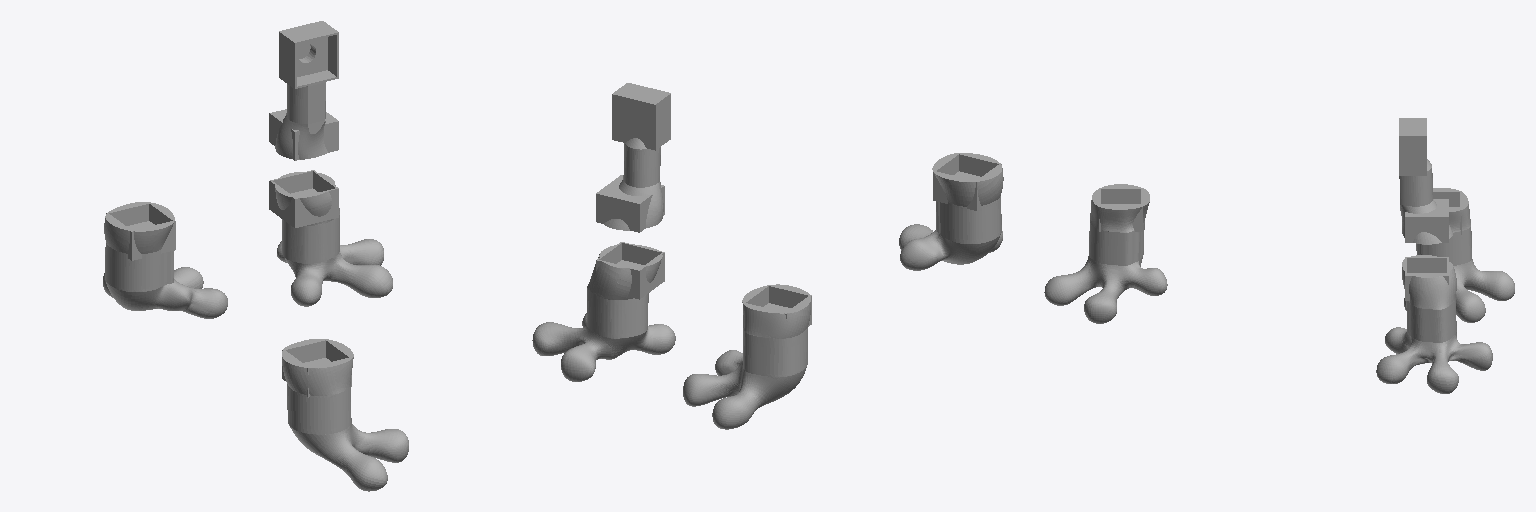
robot.urdf — FrogBot1_top-FrogBot1-z-8_bottom-FrogBot1-z-8:
<?xml version="1.0" ?>
<robot name="FrogBot1_top-FrogBot1-z-8_bottom-FrogBot1-z-8">

<material name="pla_5_percent_infill">
  <color rgba="0.700 0.700 0.700 1.000"/>
</material>

<link name="base_link">
  <inertial>
    <origin xyz="0 0 0" rpy="0 0 0"/>
    <mass value="1.4103143072721238"/>
    <inertia ixx="0.004671865419262023" iyy="0.01102984328633242" izz="0.011972094032648898" ixy="0.00015185420958179873" iyz="8.583160306759328e-05" ixz="-0.0012132770853355082"/>
  </inertial>
  <visual>
    <origin xyz="0 0 0" rpy="0 0 0"/>
    <geometry>
      <mesh filename="simple_meshes/base_link.stl" scale="0.001 0.001 0.001"/>
    </geometry>
    <material name="pla_5_percent_infill"/>
  </visual>
  <collision>
    <origin xyz="0 0 0" rpy="0 0 0"/>
    <geometry>
      <mesh filename="simple_meshes/base_link.stl" scale="0.001 0.001 0.001"/>
    </geometry>
  </collision>
</link>

<link name="body_1_0_1">
  <inertial>
    <origin xyz="-0.045735 -0.109621 -0.00462" rpy="0 0 0"/>
    <mass value="0.04669305087137374"/>
    <inertia ixx="6.158734788893326e-05" iyy="6.321786893320898e-05" izz="1.5869908486979825e-05" ixy="-4.6787052165327787e-07" iyz="3.9237378778727585e-06" ixz="8.172753653349339e-07"/>
  </inertial>
  <visual>
    <origin xyz="-0.045735 -0.109621 -0.00462" rpy="0 0 0"/>
    <geometry>
      <mesh filename="simple_meshes/body_1_0_1.stl" scale="0.001 0.001 0.001"/>
    </geometry>
    <material name="pla_5_percent_infill"/>
  </visual>
  <collision>
    <origin xyz="-0.045735 -0.109621 -0.00462" rpy="0 0 0"/>
    <geometry>
      <mesh filename="simple_meshes/body_1_0_1.stl" scale="0.001 0.001 0.001"/>
    </geometry>
  </collision>
</link>

<link name="body_1_1_1">
  <inertial>
    <origin xyz="0.086489 -0.109621 -0.018802" rpy="0 0 0"/>
    <mass value="0.08612758541207893"/>
    <inertia ixx="0.0001182693329526024" iyy="0.00012612852452608108" izz="4.703228480629077e-05" ixy="6.372901955558133e-06" iyz="1.6550422826052e-05" ixz="-2.476134601228587e-05"/>
  </inertial>
  <visual>
    <origin xyz="0.086489 -0.109621 -0.018802" rpy="0 0 0"/>
    <geometry>
      <mesh filename="simple_meshes/body_1_1_1.stl" scale="0.001 0.001 0.001"/>
    </geometry>
    <material name="pla_5_percent_infill"/>
  </visual>
  <collision>
    <origin xyz="0.086489 -0.109621 -0.018802" rpy="0 0 0"/>
    <geometry>
      <mesh filename="simple_meshes/body_1_1_1.stl" scale="0.001 0.001 0.001"/>
    </geometry>
  </collision>
</link>

<link name="body_1_2_1">
  <inertial>
    <origin xyz="-0.040267 0.109621 -0.027764" rpy="0 0 0"/>
    <mass value="0.058363739081288536"/>
    <inertia ixx="0.00011264049387572656" iyy="0.00011074279092734816" izz="2.465862550481016e-05" ixy="6.718147543731206e-07" iyz="-1.706892343665789e-05" ixz="-1.8581774497271482e-07"/>
  </inertial>
  <visual>
    <origin xyz="-0.040267 0.109621 -0.027764" rpy="0 0 0"/>
    <geometry>
      <mesh filename="simple_meshes/body_1_2_1.stl" scale="0.001 0.001 0.001"/>
    </geometry>
    <material name="pla_5_percent_infill"/>
  </visual>
  <collision>
    <origin xyz="-0.040267 0.109621 -0.027764" rpy="0 0 0"/>
    <geometry>
      <mesh filename="simple_meshes/body_1_2_1.stl" scale="0.001 0.001 0.001"/>
    </geometry>
  </collision>
</link>

<link name="body_1_3_1">
  <inertial>
    <origin xyz="0.090407 0.109621 -0.022193" rpy="0 0 0"/>
    <mass value="0.08485379805943431"/>
    <inertia ixx="0.00012753125003017122" iyy="0.00013729565771927786" izz="4.9576316215031984e-05" ixy="-7.786562935743237e-06" iyz="-2.0411289141275286e-05" ixz="-2.980986426036835e-05"/>
  </inertial>
  <visual>
    <origin xyz="0.090407 0.109621 -0.022193" rpy="0 0 0"/>
    <geometry>
      <mesh filename="simple_meshes/body_1_3_1.stl" scale="0.001 0.001 0.001"/>
    </geometry>
    <material name="pla_5_percent_infill"/>
  </visual>
  <collision>
    <origin xyz="0.090407 0.109621 -0.022193" rpy="0 0 0"/>
    <geometry>
      <mesh filename="simple_meshes/body_1_3_1.stl" scale="0.001 0.001 0.001"/>
    </geometry>
  </collision>
</link>

<link name="body_2_0_1">
  <inertial>
    <origin xyz="-0.049562 -0.159797 0.115064" rpy="0 0 0"/>
    <mass value="0.11929466611780798"/>
    <inertia ixx="0.0001706979049558733" iyy="0.00018354198886531056" izz="0.00014161540582525783" ixy="-4.7271145986438855e-06" iyz="-1.645632310017485e-06" ixz="3.944063855026449e-05"/>
  </inertial>
  <visual>
    <origin xyz="-0.049562 -0.159797 0.115064" rpy="0 0 0"/>
    <geometry>
      <mesh filename="simple_meshes/body_2_0_1.stl" scale="0.001 0.001 0.001"/>
    </geometry>
    <material name="pla_5_percent_infill"/>
  </visual>
  <collision>
    <origin xyz="-0.049562 -0.159797 0.115064" rpy="0 0 0"/>
    <geometry>
      <mesh filename="simple_meshes/body_2_0_1.stl" scale="0.001 0.001 0.001"/>
    </geometry>
  </collision>
</link>

<link name="body_2_1_1">
  <inertial>
    <origin xyz="0.121182 -0.173952 0.115064" rpy="0 0 0"/>
    <mass value="0.13188086054341672"/>
    <inertia ixx="0.00018250774546210366" iyy="0.00019525400391993443" izz="0.00015667204359975668" ixy="-5.300198501608996e-07" iyz="2.2857897823881472e-05" ixz="5.0156362080533076e-05"/>
  </inertial>
  <visual>
    <origin xyz="0.121182 -0.173952 0.115064" rpy="0 0 0"/>
    <geometry>
      <mesh filename="simple_meshes/body_2_1_1.stl" scale="0.001 0.001 0.001"/>
    </geometry>
    <material name="pla_5_percent_infill"/>
  </visual>
  <collision>
    <origin xyz="0.121182 -0.173952 0.115064" rpy="0 0 0"/>
    <geometry>
      <mesh filename="simple_meshes/body_2_1_1.stl" scale="0.001 0.001 0.001"/>
    </geometry>
  </collision>
</link>

<link name="body_2_2_1">
  <inertial>
    <origin xyz="-0.04311 0.170506 0.115064" rpy="0 0 0"/>
    <mass value="0.12465333083205496"/>
    <inertia ixx="0.00018182680676448633" iyy="0.00017547280678968918" izz="0.0001464392054658292" ixy="1.28548710642243e-06" iyz="-9.01709822571841e-06" ixz="2.8723194358482463e-05"/>
  </inertial>
  <visual>
    <origin xyz="-0.04311 0.170506 0.115064" rpy="0 0 0"/>
    <geometry>
      <mesh filename="simple_meshes/body_2_2_1.stl" scale="0.001 0.001 0.001"/>
    </geometry>
    <material name="pla_5_percent_infill"/>
  </visual>
  <collision>
    <origin xyz="-0.04311 0.170506 0.115064" rpy="0 0 0"/>
    <geometry>
      <mesh filename="simple_meshes/body_2_2_1.stl" scale="0.001 0.001 0.001"/>
    </geometry>
  </collision>
</link>

<link name="body_2_3_1">
  <inertial>
    <origin xyz="0.129712 0.175384 0.115064" rpy="0 0 0"/>
    <mass value="0.1277856373822727"/>
    <inertia ixx="0.00019092959316797768" iyy="0.00018900325065688076" izz="0.00014329279451186835" ixy="6.896354819343337e-06" iyz="-2.898336546070055e-05" ixz="4.7471247828146344e-05"/>
  </inertial>
  <visual>
    <origin xyz="0.129712 0.175384 0.115064" rpy="0 0 0"/>
    <geometry>
      <mesh filename="simple_meshes/body_2_3_1.stl" scale="0.001 0.001 0.001"/>
    </geometry>
    <material name="pla_5_percent_infill"/>
  </visual>
  <collision>
    <origin xyz="0.129712 0.175384 0.115064" rpy="0 0 0"/>
    <geometry>
      <mesh filename="simple_meshes/body_2_3_1.stl" scale="0.001 0.001 0.001"/>
    </geometry>
  </collision>
</link>

<joint name="joint_1_0" type="revolute">
  <origin xyz="0.045735 0.109621 0.00462" rpy="0 0 0"/>
  <parent link="base_link"/>
  <child link="body_1_0_1"/>
  <axis xyz="0.0 1.0 0.0"/>
  <limit upper="1.2" lower="-1.2" effort="3.8" velocity="5.4"/>
</joint>
<transmission name="joint_1_0_tran">
  <type>transmission_interface/SimpleTransmission</type>
  <joint name="joint_1_0">
    <hardwareInterface>PositionJointInterface</hardwareInterface>
  </joint>
  <actuator name="joint_1_0_actr">
    <hardwareInterface>PositionJointInterface</hardwareInterface>
    <mechanicalReduction>1</mechanicalReduction>
  </actuator>
</transmission>

<joint name="joint_1_1" type="revolute">
  <origin xyz="-0.086489 0.109621 0.018802" rpy="0 0 0"/>
  <parent link="base_link"/>
  <child link="body_1_1_1"/>
  <axis xyz="0.0 1.0 0.0"/>
  <limit upper="1.2" lower="-1.2" effort="3.8" velocity="5.4"/>
</joint>
<transmission name="joint_1_1_tran">
  <type>transmission_interface/SimpleTransmission</type>
  <joint name="joint_1_1">
    <hardwareInterface>PositionJointInterface</hardwareInterface>
  </joint>
  <actuator name="joint_1_1_actr">
    <hardwareInterface>PositionJointInterface</hardwareInterface>
    <mechanicalReduction>1</mechanicalReduction>
  </actuator>
</transmission>

<joint name="joint_1_2" type="revolute">
  <origin xyz="0.040267 -0.109621 0.027764" rpy="0 0 0"/>
  <parent link="base_link"/>
  <child link="body_1_2_1"/>
  <axis xyz="0.0 1.0 0.0"/>
  <limit upper="1.2" lower="-1.2" effort="3.8" velocity="5.4"/>
</joint>
<transmission name="joint_1_2_tran">
  <type>transmission_interface/SimpleTransmission</type>
  <joint name="joint_1_2">
    <hardwareInterface>PositionJointInterface</hardwareInterface>
  </joint>
  <actuator name="joint_1_2_actr">
    <hardwareInterface>PositionJointInterface</hardwareInterface>
    <mechanicalReduction>1</mechanicalReduction>
  </actuator>
</transmission>

<joint name="joint_1_3" type="revolute">
  <origin xyz="-0.090407 -0.109621 0.022193" rpy="0 0 0"/>
  <parent link="base_link"/>
  <child link="body_1_3_1"/>
  <axis xyz="0.0 1.0 0.0"/>
  <limit upper="1.2" lower="-1.2" effort="3.8" velocity="5.4"/>
</joint>
<transmission name="joint_1_3_tran">
  <type>transmission_interface/SimpleTransmission</type>
  <joint name="joint_1_3">
    <hardwareInterface>PositionJointInterface</hardwareInterface>
  </joint>
  <actuator name="joint_1_3_actr">
    <hardwareInterface>PositionJointInterface</hardwareInterface>
    <mechanicalReduction>1</mechanicalReduction>
  </actuator>
</transmission>

<joint name="joint_2_0" type="revolute">
  <origin xyz="0.003827 0.050176 -0.119684" rpy="0 0 0"/>
  <parent link="body_1_0_1"/>
  <child link="body_2_0_1"/>
  <axis xyz="0.0 0.0 1.0"/>
  <limit upper="1.2" lower="-1.2" effort="3.8" velocity="5.4"/>
</joint>
<transmission name="joint_2_0_tran">
  <type>transmission_interface/SimpleTransmission</type>
  <joint name="joint_2_0">
    <hardwareInterface>PositionJointInterface</hardwareInterface>
  </joint>
  <actuator name="joint_2_0_actr">
    <hardwareInterface>PositionJointInterface</hardwareInterface>
    <mechanicalReduction>1</mechanicalReduction>
  </actuator>
</transmission>

<joint name="joint_2_1" type="revolute">
  <origin xyz="-0.034693 0.064331 -0.133866" rpy="0 0 0"/>
  <parent link="body_1_1_1"/>
  <child link="body_2_1_1"/>
  <axis xyz="0.0 0.0 1.0"/>
  <limit upper="1.2" lower="-1.2" effort="3.8" velocity="5.4"/>
</joint>
<transmission name="joint_2_1_tran">
  <type>transmission_interface/SimpleTransmission</type>
  <joint name="joint_2_1">
    <hardwareInterface>PositionJointInterface</hardwareInterface>
  </joint>
  <actuator name="joint_2_1_actr">
    <hardwareInterface>PositionJointInterface</hardwareInterface>
    <mechanicalReduction>1</mechanicalReduction>
  </actuator>
</transmission>

<joint name="joint_2_2" type="revolute">
  <origin xyz="0.002843 -0.060885 -0.142828" rpy="0 0 0"/>
  <parent link="body_1_2_1"/>
  <child link="body_2_2_1"/>
  <axis xyz="0.0 0.0 1.0"/>
  <limit upper="1.2" lower="-1.2" effort="3.8" velocity="5.4"/>
</joint>
<transmission name="joint_2_2_tran">
  <type>transmission_interface/SimpleTransmission</type>
  <joint name="joint_2_2">
    <hardwareInterface>PositionJointInterface</hardwareInterface>
  </joint>
  <actuator name="joint_2_2_actr">
    <hardwareInterface>PositionJointInterface</hardwareInterface>
    <mechanicalReduction>1</mechanicalReduction>
  </actuator>
</transmission>

<joint name="joint_2_3" type="revolute">
  <origin xyz="-0.039305 -0.065763 -0.137257" rpy="0 0 0"/>
  <parent link="body_1_3_1"/>
  <child link="body_2_3_1"/>
  <axis xyz="0.0 0.0 1.0"/>
  <limit upper="1.2" lower="-1.2" effort="3.8" velocity="5.4"/>
</joint>
<transmission name="joint_2_3_tran">
  <type>transmission_interface/SimpleTransmission</type>
  <joint name="joint_2_3">
    <hardwareInterface>PositionJointInterface</hardwareInterface>
  </joint>
  <actuator name="joint_2_3_actr">
    <hardwareInterface>PositionJointInterface</hardwareInterface>
    <mechanicalReduction>1</mechanicalReduction>
  </actuator>
</transmission>

</robot>

--- Facts derived from the render (not from the file) ---
Views: 3 orthographic renders of the robot side by side, from view 1: azimuth 30°, elevation 25°; view 2: azimuth 150°, elevation 25°; view 3: azimuth 270°, elevation 25°.
Model FrogBot1_top-FrogBot1-z-8_bottom-FrogBot1-z-8 with 9 links and 8 joints (8 revolute), rooted at base_link, posed every joint at zero.
Links seen in each view (by area): view 1: body_2_3_1, body_2_0_1, body_2_1_1, body_1_0_1; view 2: body_2_1_1, body_2_0_1, body_2_3_1, body_1_0_1; view 3: body_2_3_1, body_2_0_1, body_1_0_1, body_2_1_1.
Link boxes in pixels (x1=…): body_2_3_1: x1=282, y1=339, x2=408, y2=491; body_2_0_1: x1=269, y1=170, x2=392, y2=306; body_2_1_1: x1=103, y1=202, x2=227, y2=318; body_1_0_1: x1=269, y1=21, x2=338, y2=160; body_2_1_1: x1=683, y1=284, x2=811, y2=429; body_2_0_1: x1=532, y1=242, x2=675, y2=381; body_2_3_1: x1=899, y1=153, x2=1003, y2=270; body_1_0_1: x1=596, y1=83, x2=670, y2=232; body_2_3_1: x1=1044, y1=184, x2=1167, y2=323; body_2_0_1: x1=1376, y1=255, x2=1492, y2=393; body_1_0_1: x1=1399, y1=118, x2=1452, y2=244; body_2_1_1: x1=1404, y1=188, x2=1514, y2=322.
Bounding box of the posed robot: 0.3083 × 0.5165 × 0.287 m (x, y, z).
4 mesh visuals loaded from 9 distinct referenced files (4 binary STL); not drawn: 5 (reference not matched to a file when rendering).